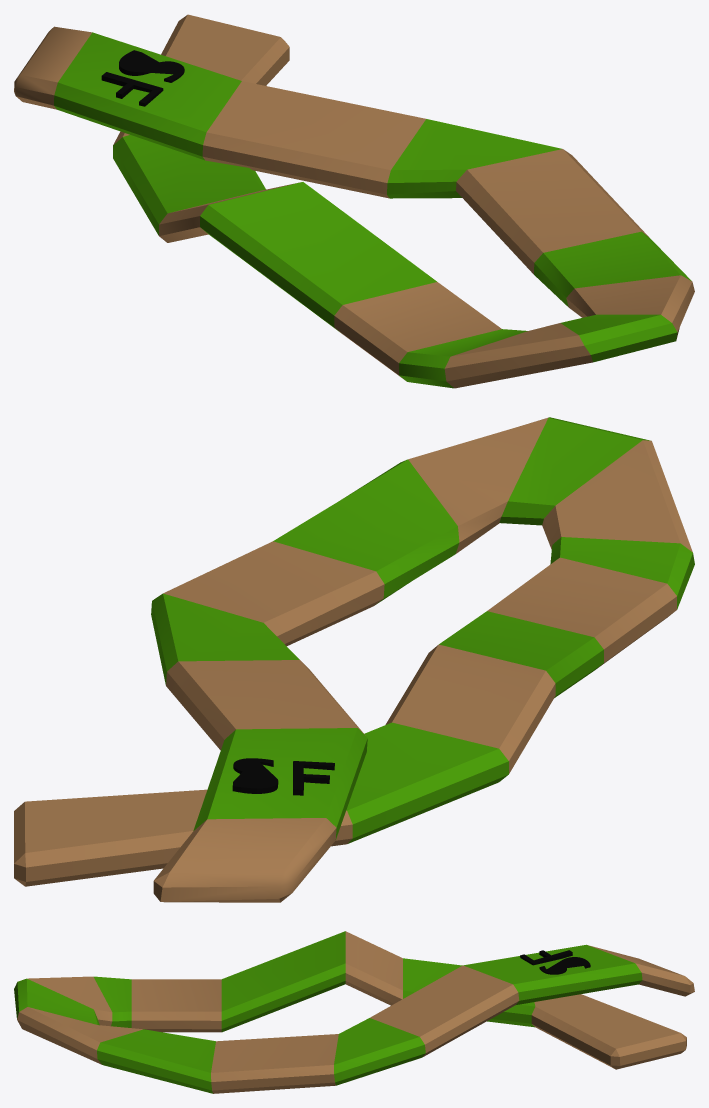
Rendered from scarf.fbx.
3 views of the same model, one above another, from view 1: azimuth 30°, elevation 25°; view 2: azimuth 150°, elevation 25°; view 3: azimuth 270°, elevation 25° (orthographic). The views are drawn at different scales.
Parts seen in each view (by area): view 1: pCube1, typeMesh1; view 2: pCube1, typeMesh1; view 3: pCube1, typeMesh1.
Boxes of the visible parts, x1=… form: pCube1: x1=14, y1=14, x2=694, y2=388; typeMesh1: x1=101, y1=50, x2=184, y2=106; pCube1: x1=14, y1=417, x2=694, y2=902; typeMesh1: x1=232, y1=758, x2=334, y2=795; pCube1: x1=14, y1=931, x2=694, y2=1093; typeMesh1: x1=520, y1=950, x2=590, y2=974.
Bounding box in the file's own units: 3.26 × 0.6678 × 7.54.
